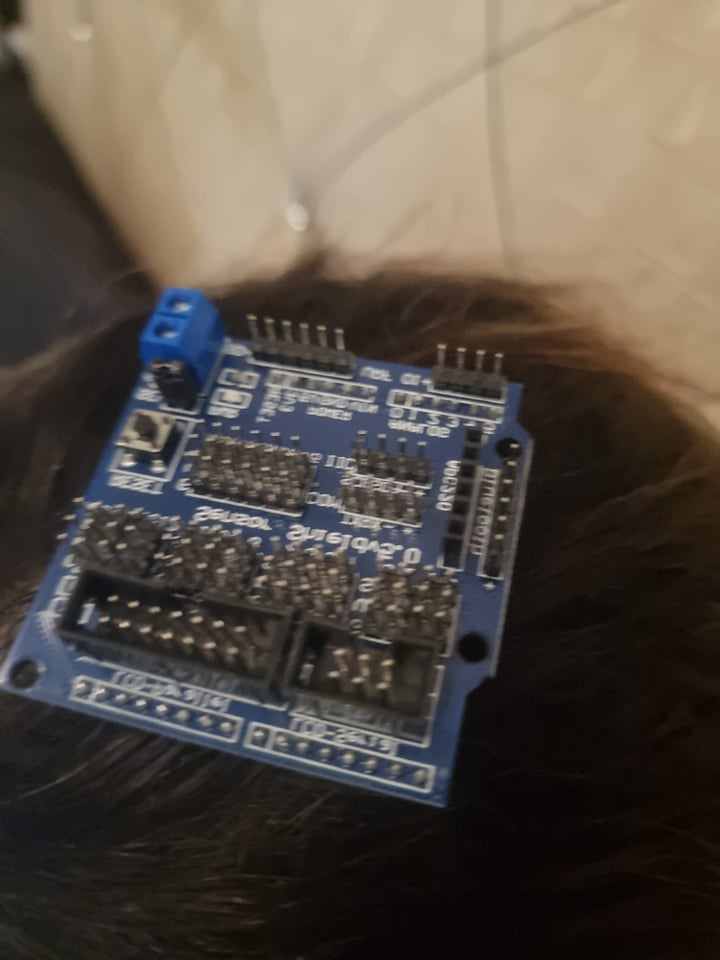5V EXPANSION: (0, 287, 532, 811)
